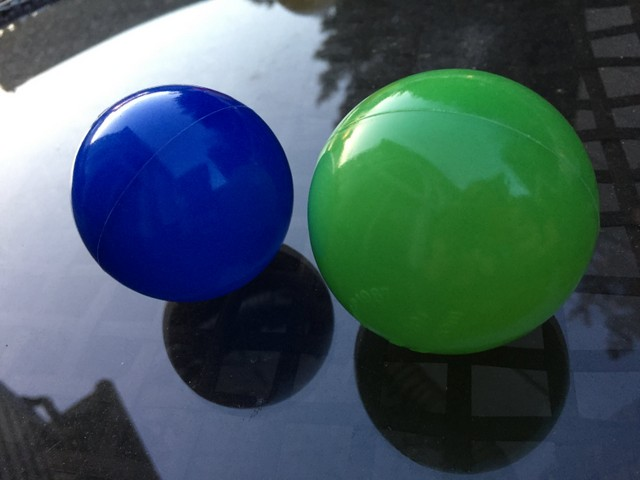Ball: (311, 68, 600, 355)
